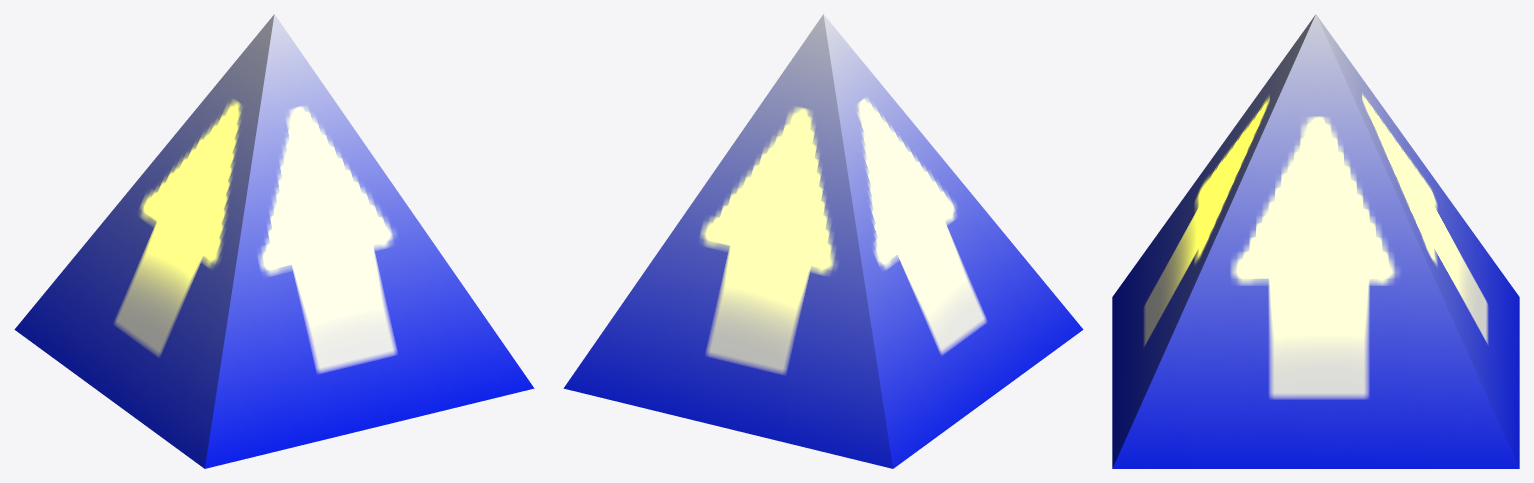
Rendered from fully_textured_pyramid.gltf.
3 renders of one model, left to right at view 1: azimuth 30°, elevation 25°; view 2: azimuth 150°, elevation 25°; view 3: azimuth 270°, elevation 25°, orthographic. The views are drawn at different scales.
Visible parts, largest first — view 1: Cube; view 2: Cube; view 3: Cube.
Part boxes in pixels (x1,y1,x2,y2): Cube: (14, 14, 534, 468); Cube: (563, 14, 1083, 468); Cube: (1112, 14, 1519, 468).
Bounding box in the file's own units: 2 × 2 × 2.
1 material, 1 textured.
